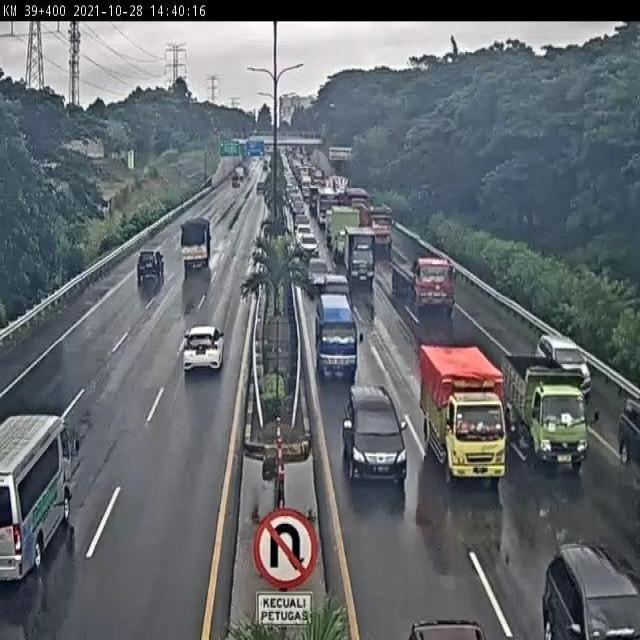big truck: (391, 249, 455, 307)
car: (541, 540, 640, 640), (343, 387, 411, 481), (536, 333, 593, 403), (182, 328, 224, 371), (135, 250, 165, 286), (323, 272, 349, 305), (304, 258, 330, 290)
small bus: (0, 412, 78, 581), (314, 296, 356, 377)
small truck: (418, 344, 508, 483), (504, 355, 590, 476), (345, 226, 374, 290)
truck-m-: (180, 216, 213, 267)
